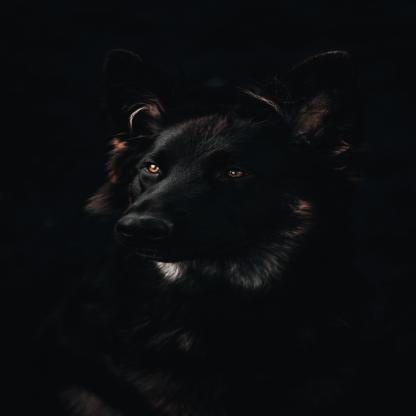dog: (100, 86, 379, 416)
